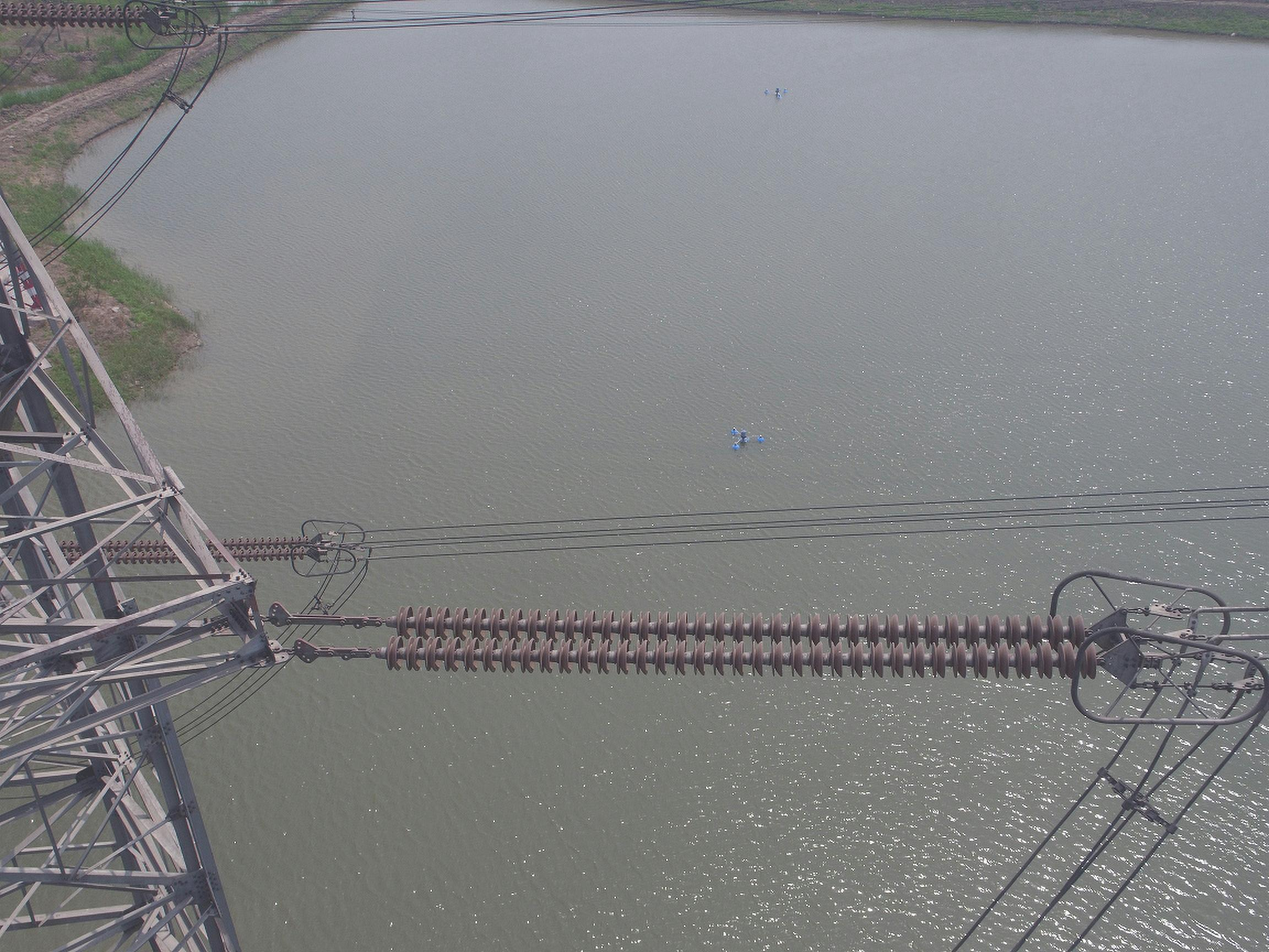insulator: (379, 602, 1100, 683), (48, 533, 312, 569), (1, 1, 151, 31)
